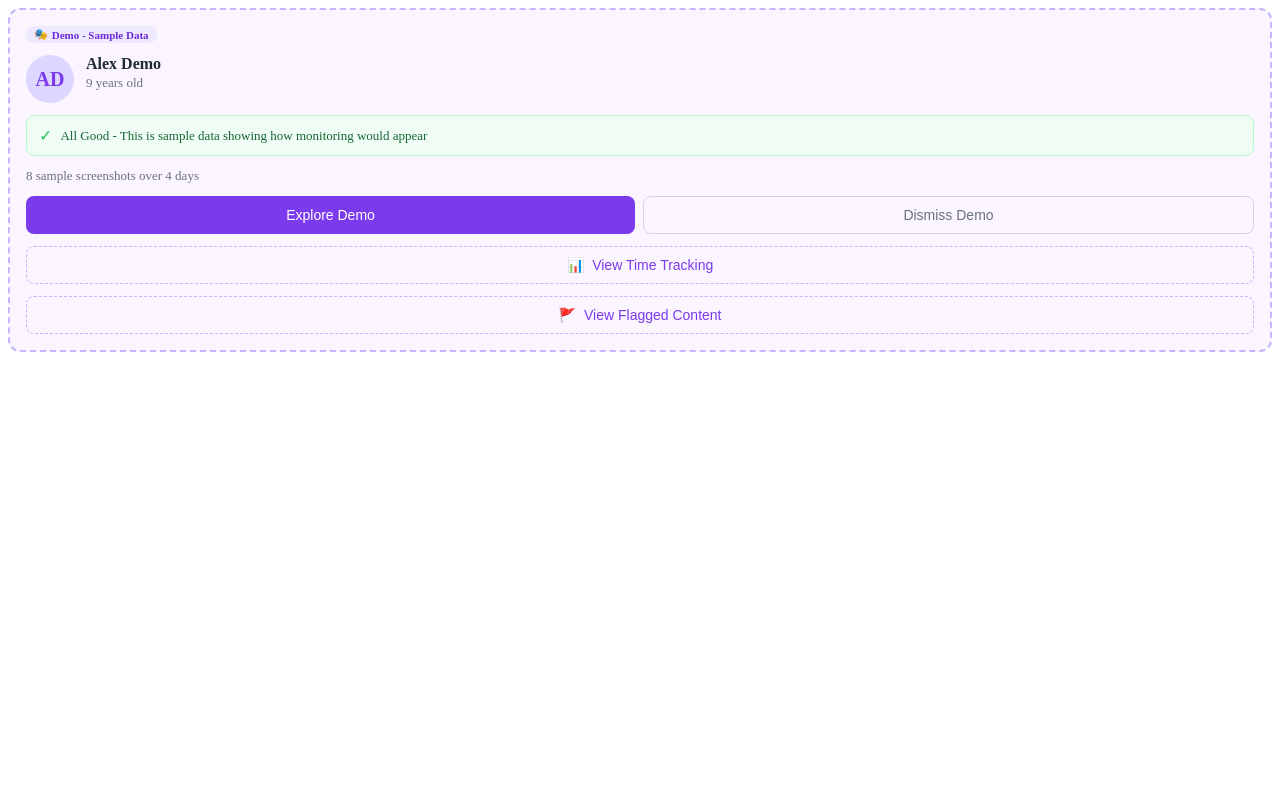
DemoChildCard - Gallery Integration (Story 8.5.2) › Gallery Expansion › should show gallery when toggle button clicked
Click the button with test id "toggle-gallery-button" at x=330, y=215, box [26,196,635,234]
(page scrolled)
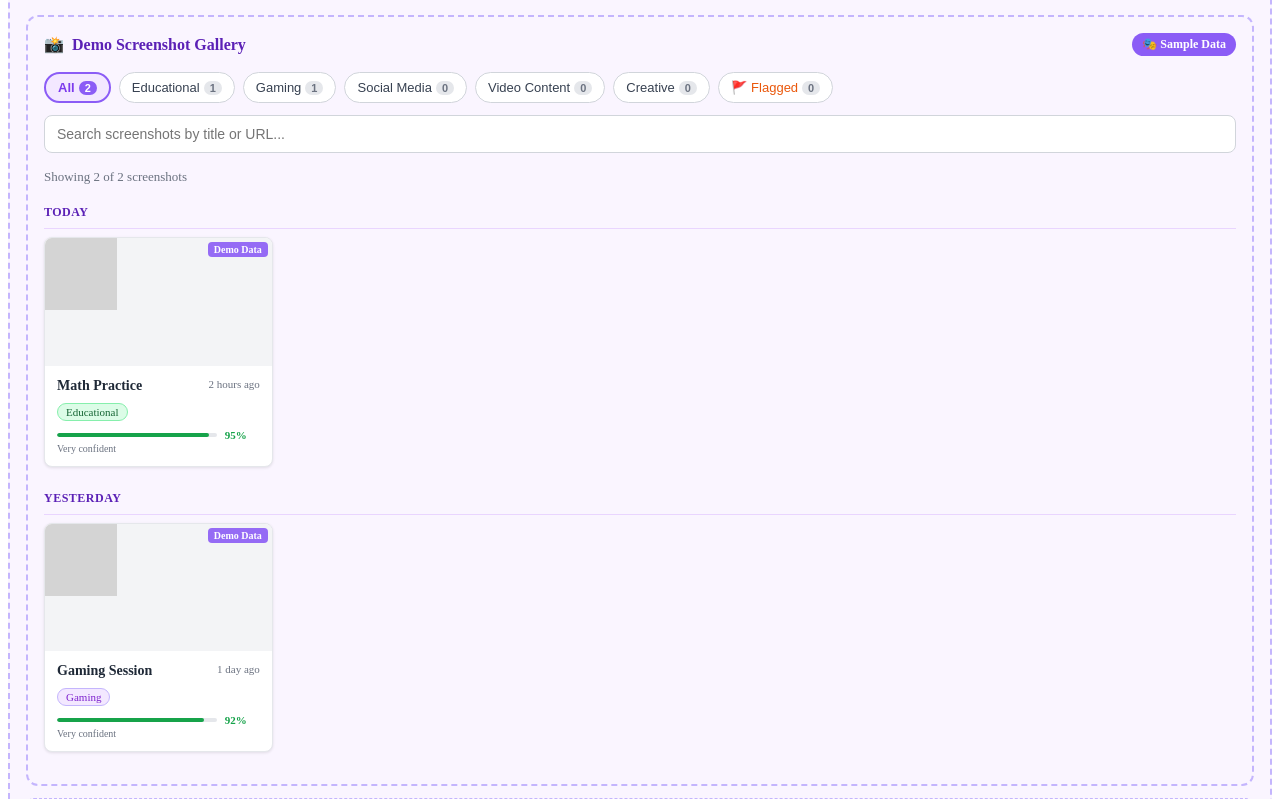
Expected: the element with test id "gallery-section" is shown
